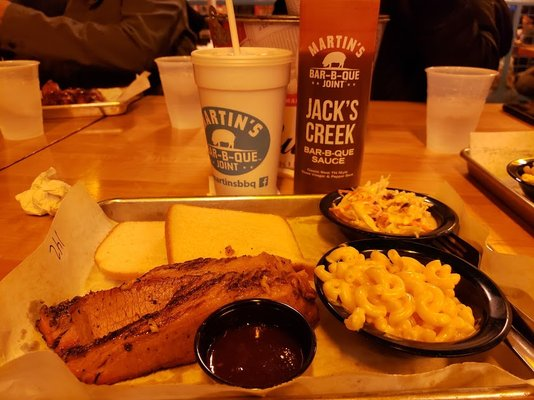pizza: (189, 46, 293, 197), (424, 66, 497, 157), (154, 55, 203, 132), (0, 59, 44, 142)
soup: (34, 252, 319, 386)
sushi: (194, 297, 317, 390)
